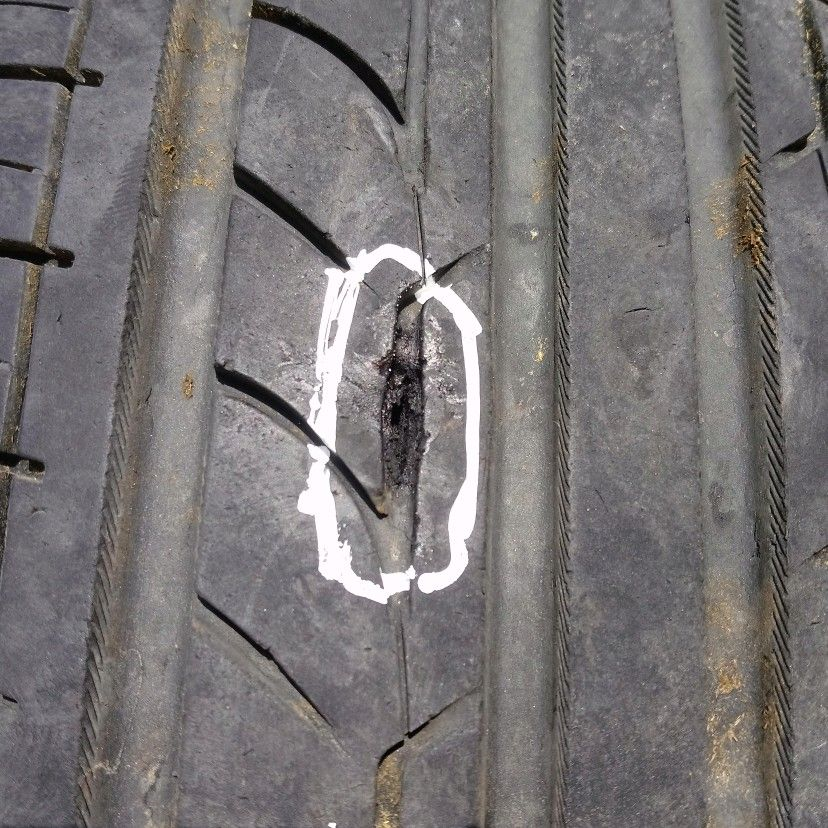tr: (367, 283, 441, 517)
